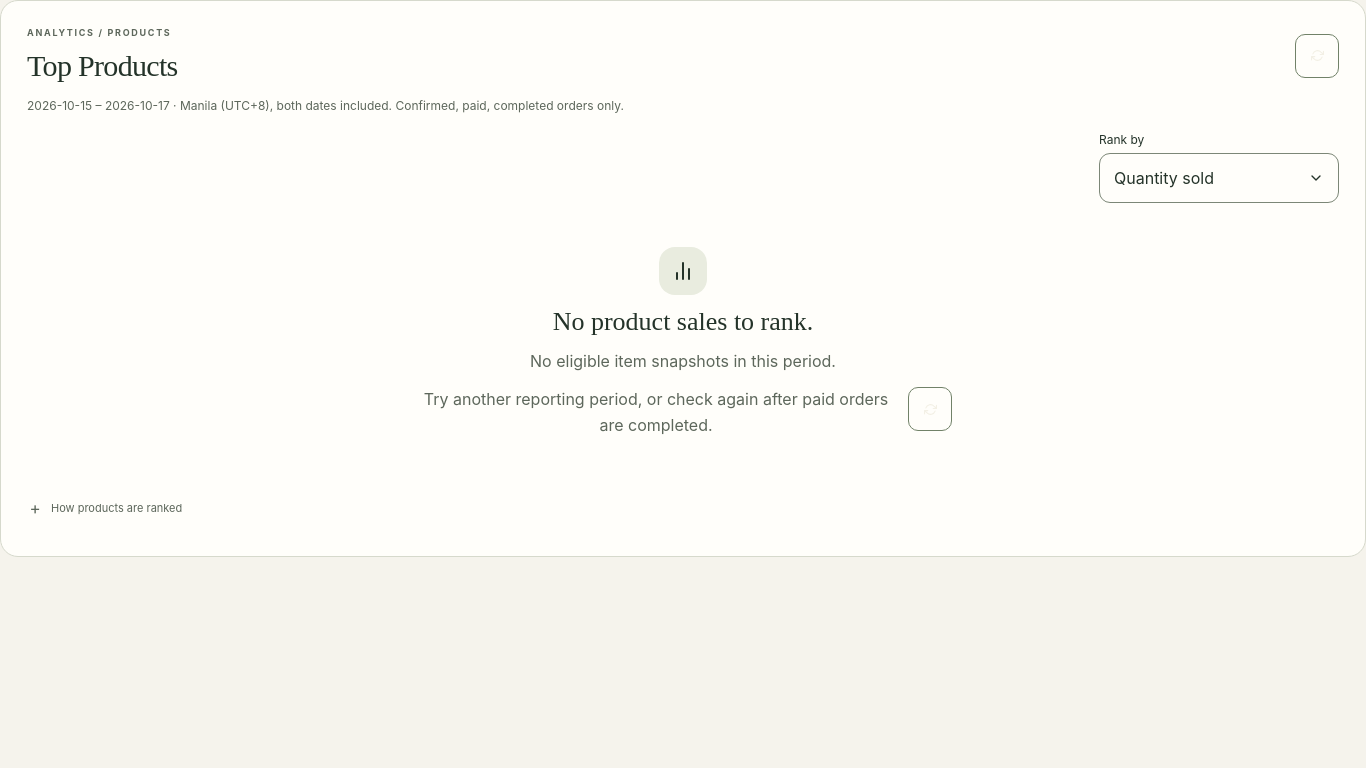
Test case: shows an empty state without inventing products
Expected: the text "No eligible item snapshots in this period." is shown, [530,349,836,375]
Click the button named "Check for new product sales" at (930, 409), box [908,387,952,431]
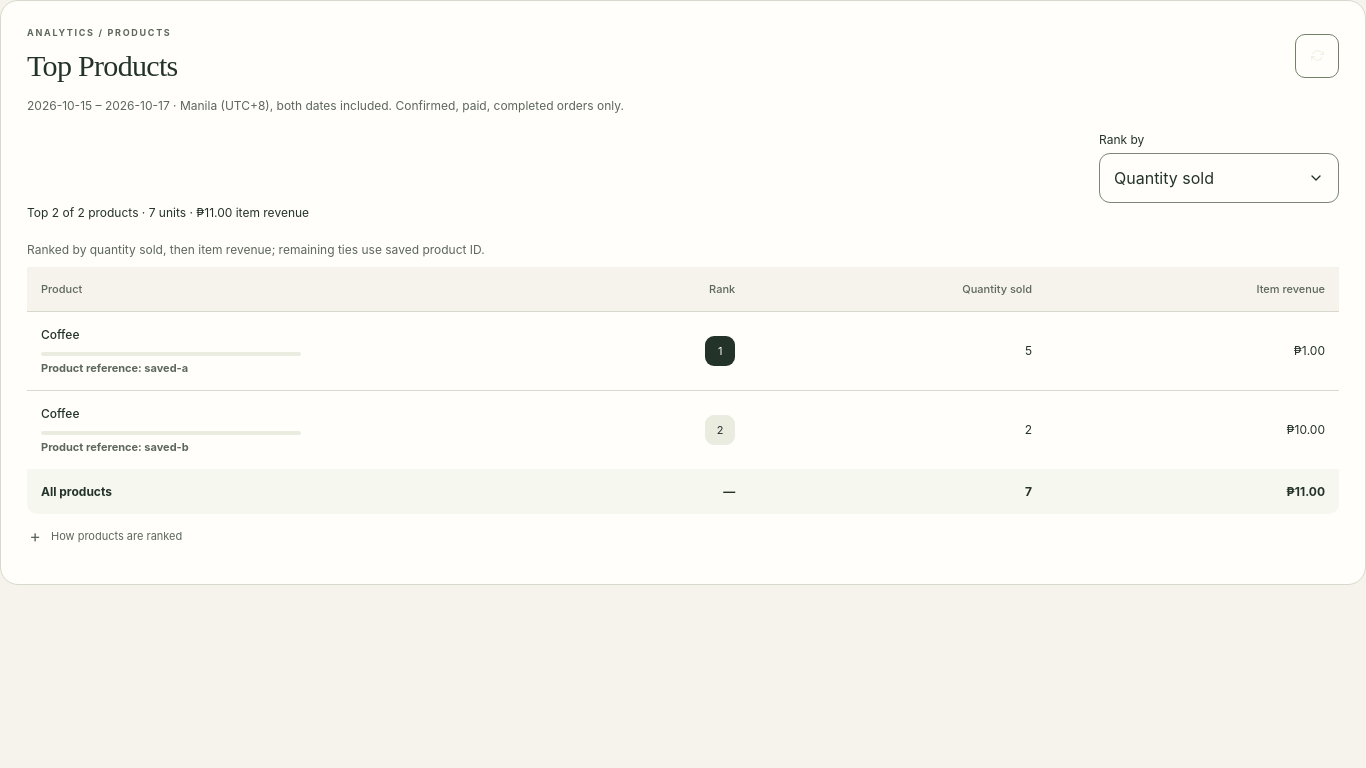
Expected: the table is shown, [27,232,1339,514]
Expected: the heading "No product sales to rank." is gone
